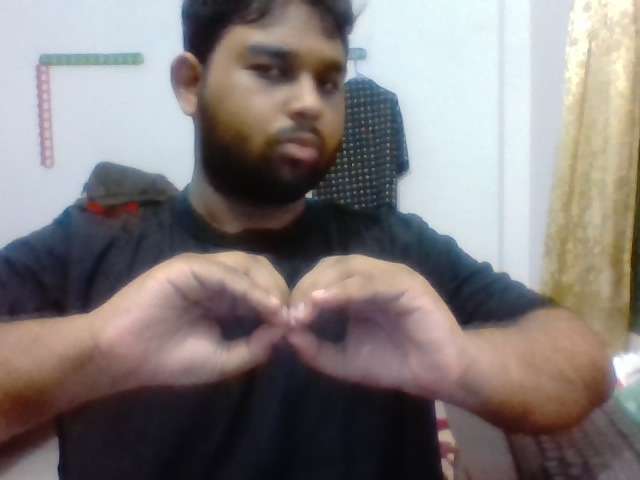B: (110, 243, 467, 414)
